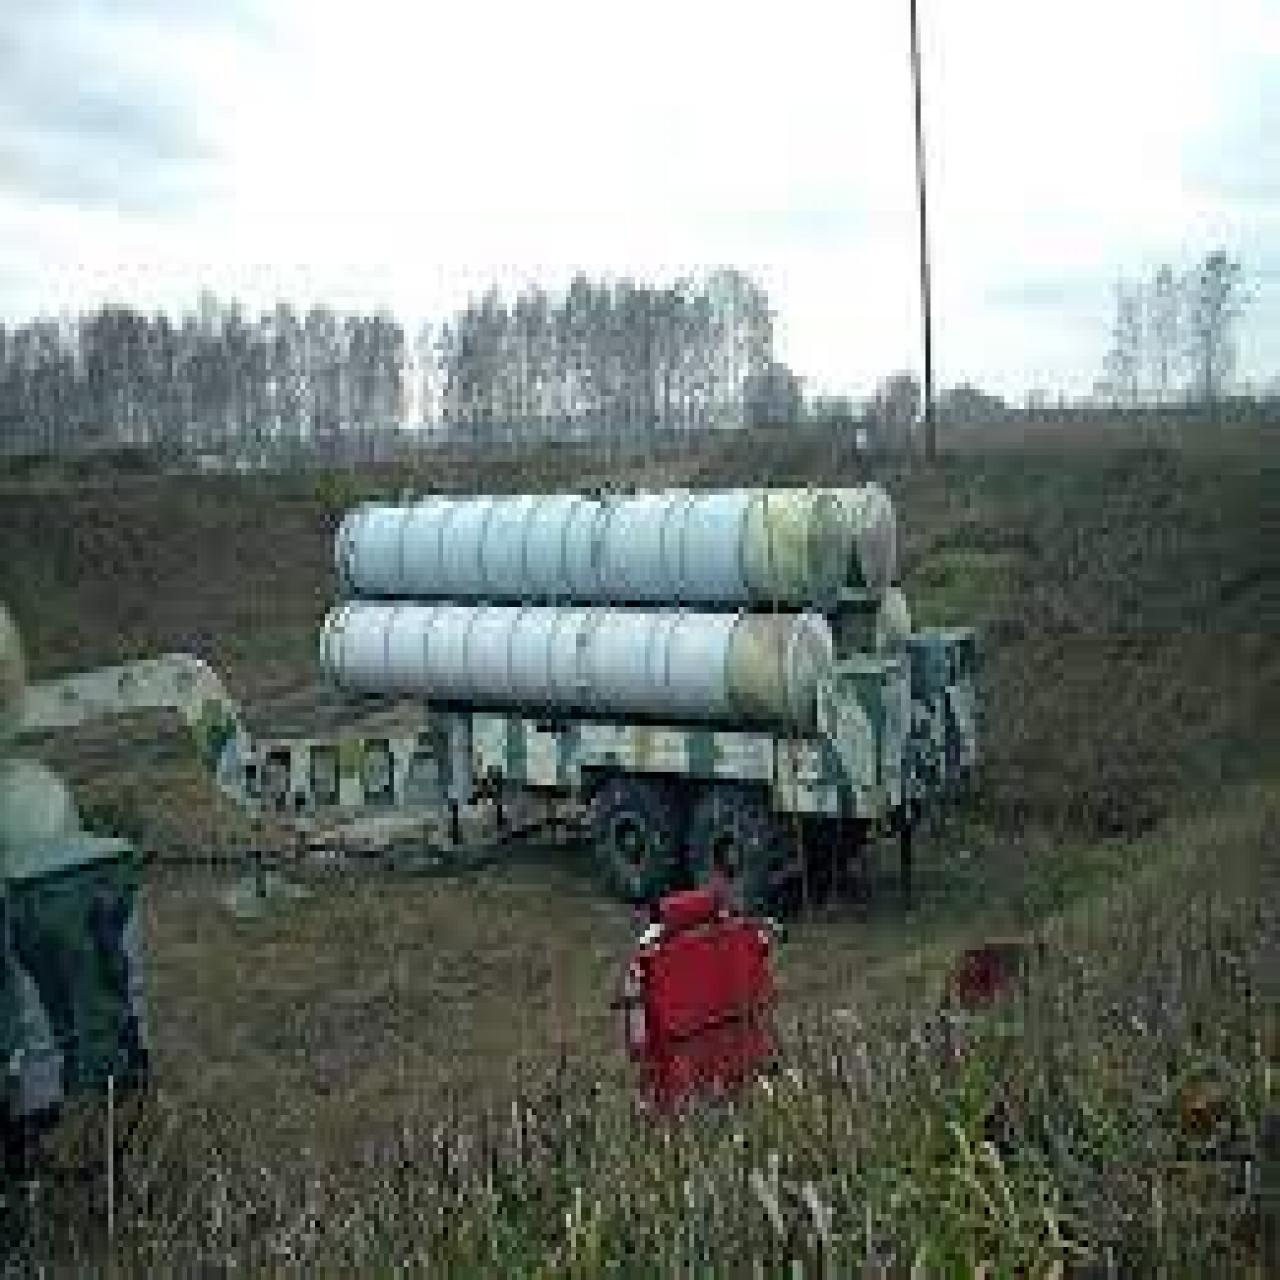MIL_Veh: (312, 485, 995, 917)
